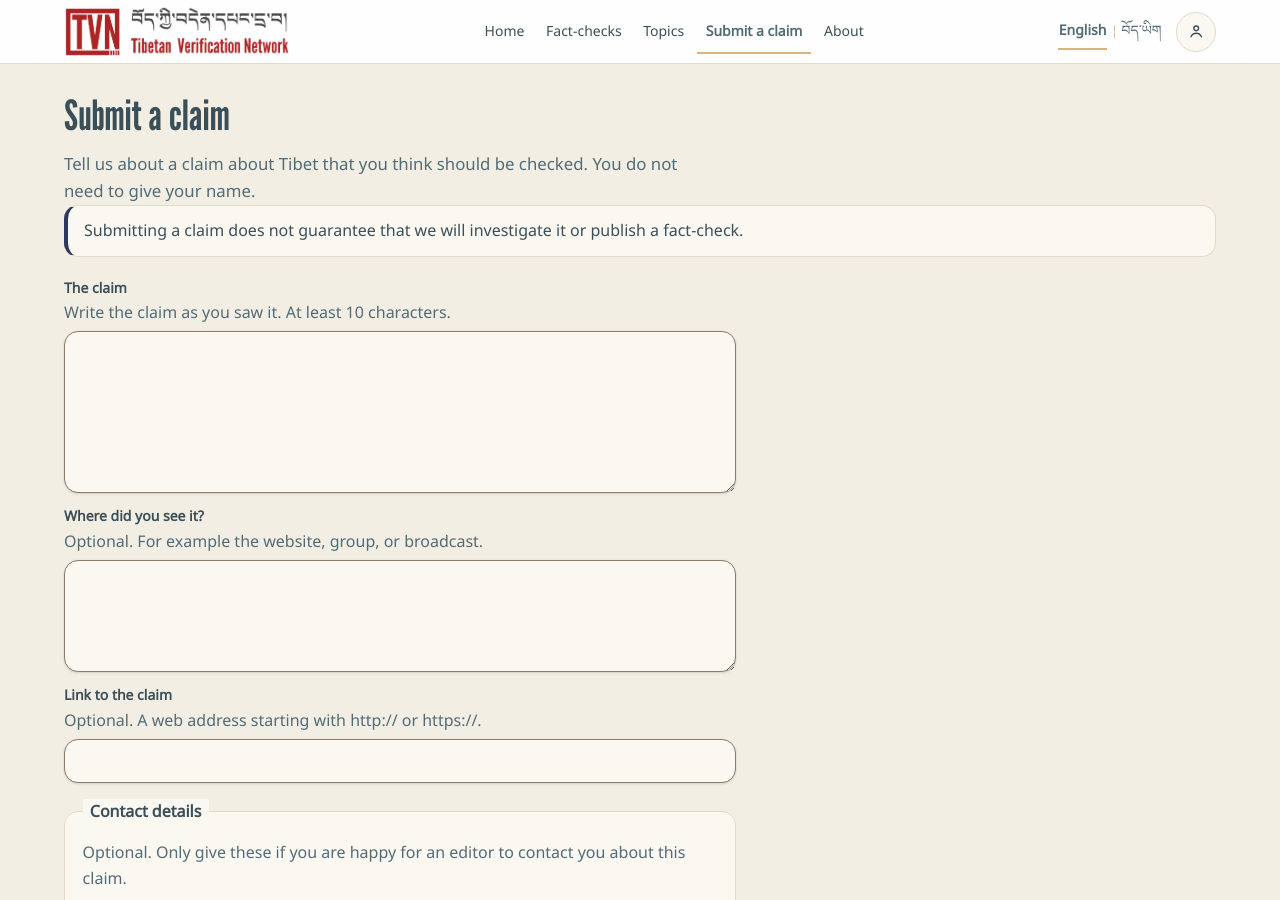
Test: submit page › sends only the claim when everything else is blank
Type "བོད་ཀྱི་སྐོར་གྱི་གླེང་གཞི་འདི་བདེན་དཔྱད་དགོས།" into the text box labelled "The claim" at coordinates (400, 412), box x1=64 y1=331 x2=736 y2=493
(page scrolled)
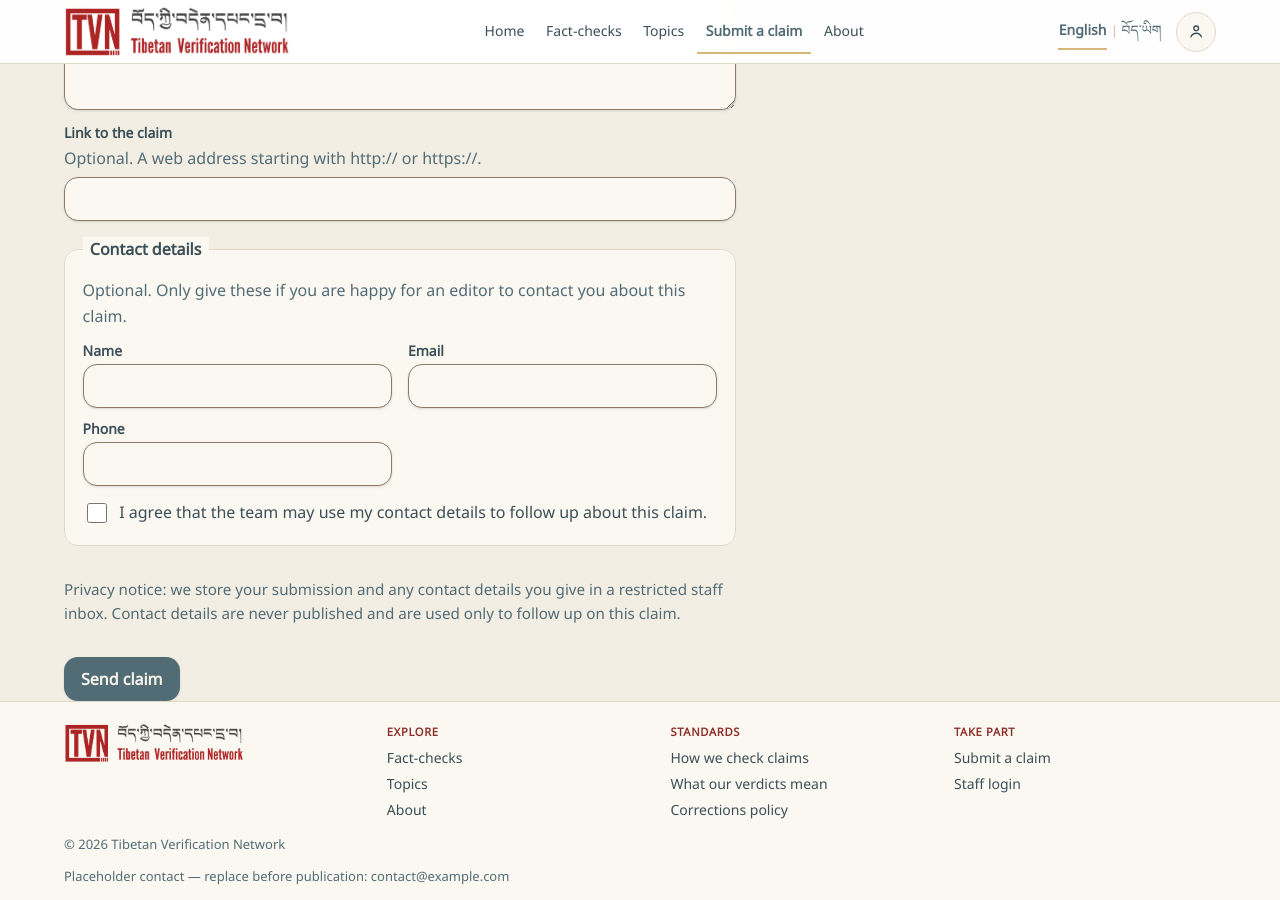
Click the button "Send claim" at coordinates (122, 679), box x1=64 y1=657 x2=180 y2=701
(page scrolled)
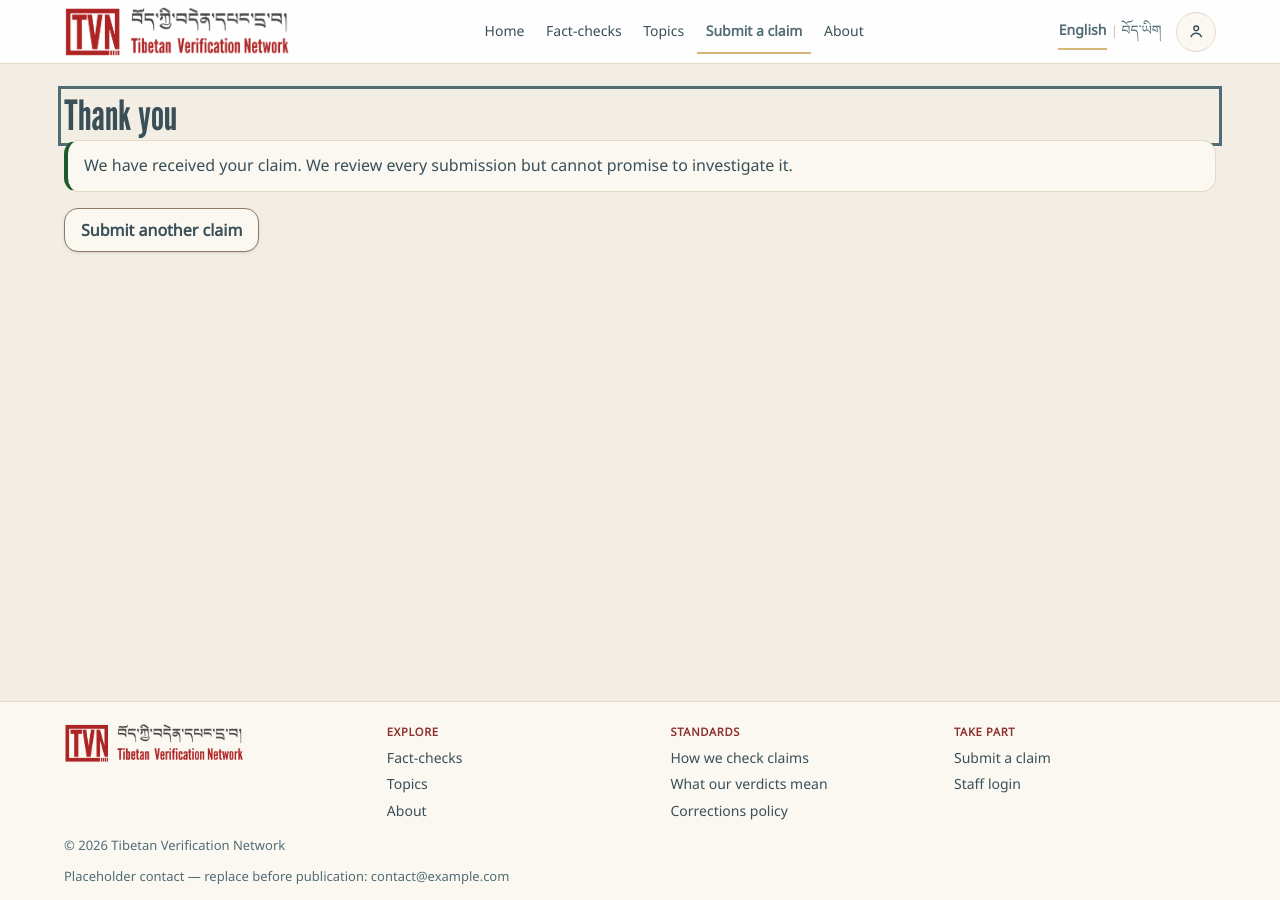
Result: the heading "Thank you" is shown at x1=64 y1=90 x2=177 y2=140
